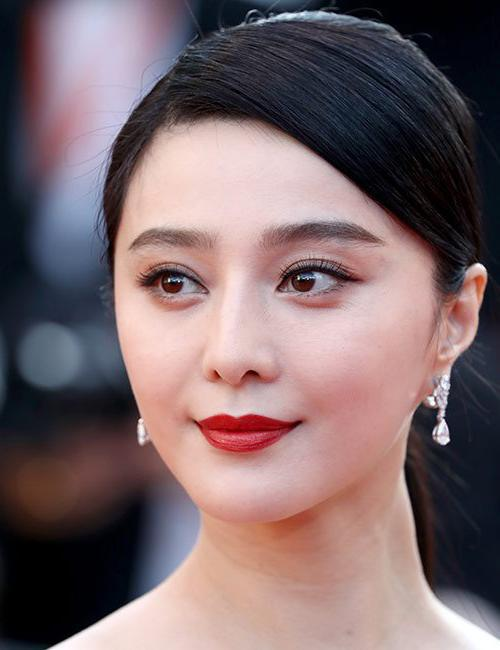Sober: (118, 143, 406, 495)
